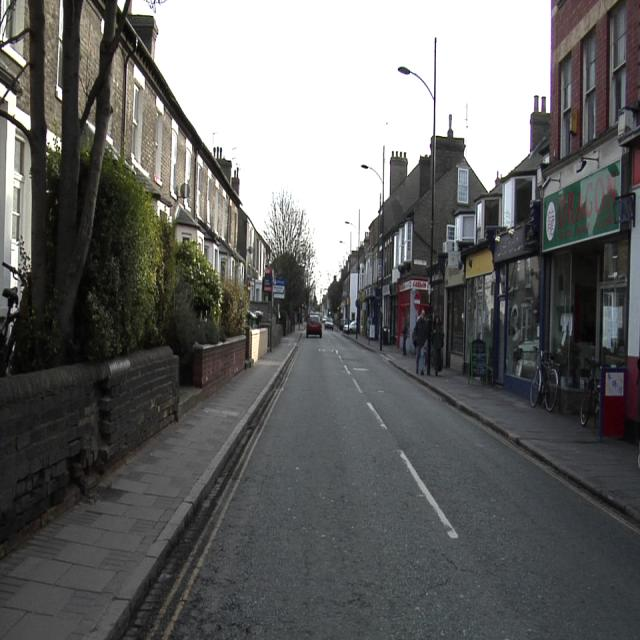Building: (331, 0, 638, 441), (108, 15, 269, 301), (0, 0, 29, 264), (80, 0, 104, 99), (46, 0, 62, 144)
Car: (306, 314, 322, 335), (325, 317, 334, 329)
Road: (135, 332, 635, 639)
Tree: (15, 0, 174, 370), (265, 188, 316, 324)
person: (414, 311, 427, 374)
